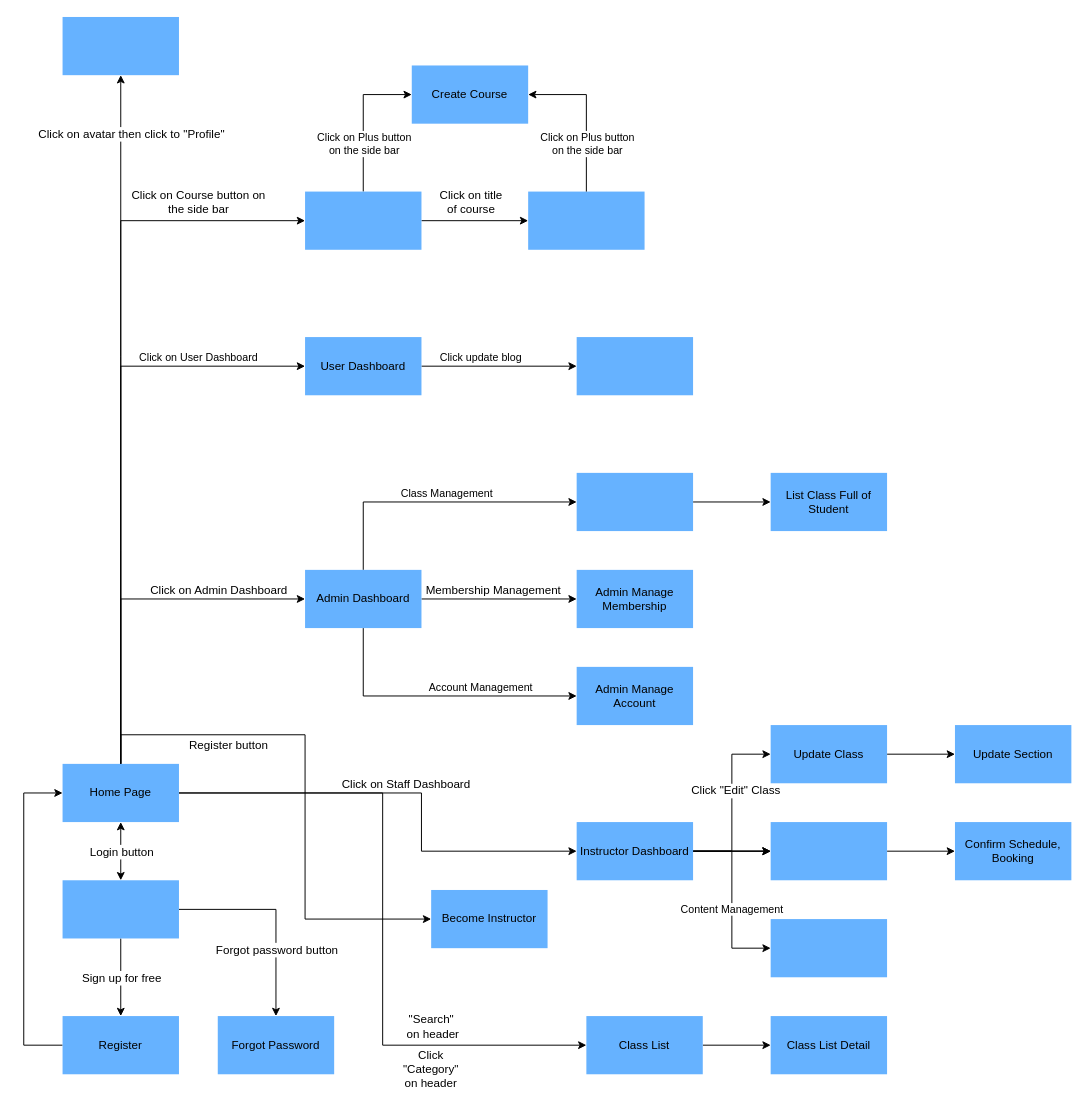
This 1088x1107 diagram has some shape labels left out. The box of each missing label's shape, as (x1, y1, x2, y2) in pixels:
Admin Manage Class: (576, 472, 693, 531)
Course Detail: (528, 191, 644, 249)
Course List: (305, 191, 421, 249)
Instructor Manage Content: (770, 919, 887, 977)
List of Booking, Schedule: (770, 822, 887, 880)
Login: (62, 880, 178, 938)
Update Blog: (576, 337, 693, 395)
User Profile: (62, 16, 178, 75)
